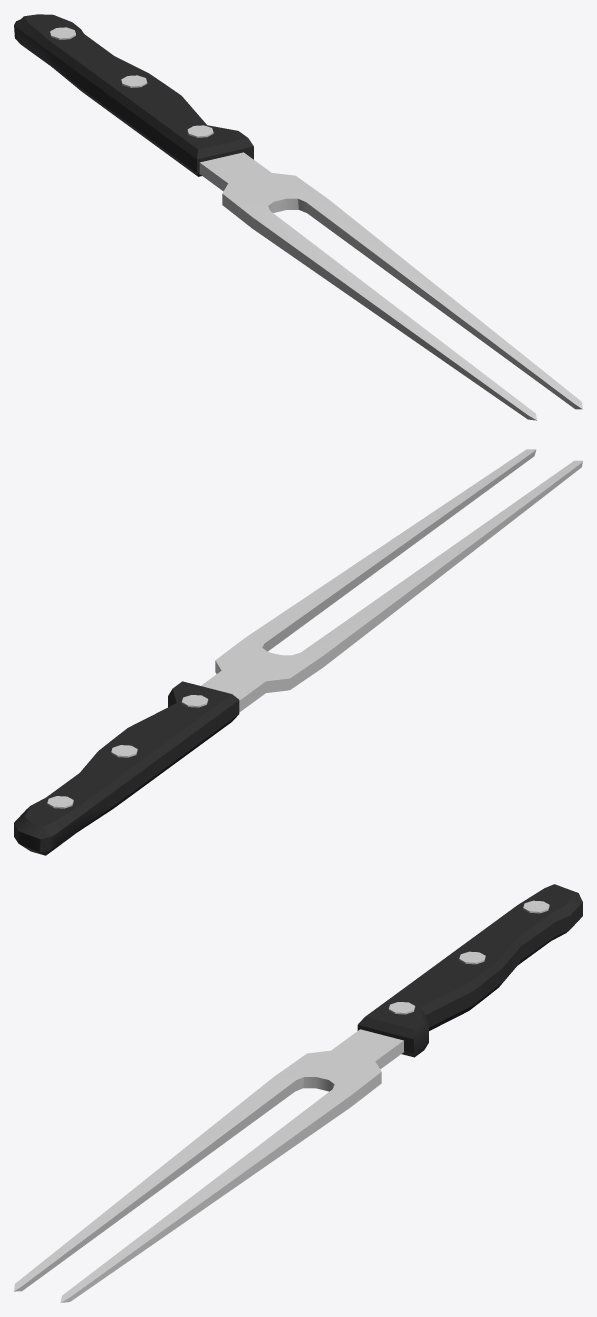
The model's file is CarvingFork_01.fbx.
3 renders of one model, top to bottom at view 1: azimuth 30°, elevation 25°; view 2: azimuth 150°, elevation 25°; view 3: azimuth 330°, elevation 25°, orthographic.
Visible parts, largest first — view 1: CarvingFork_01; view 2: CarvingFork_01; view 3: CarvingFork_01.
Part boxes in pixels (<box>): CarvingFork_01: <box>14,14,582,420</box>; CarvingFork_01: <box>14,449,582,855</box>; CarvingFork_01: <box>14,884,582,1302</box>.
Bounding box in the file's own units: 0.0272 × 0.0107 × 0.3291.
